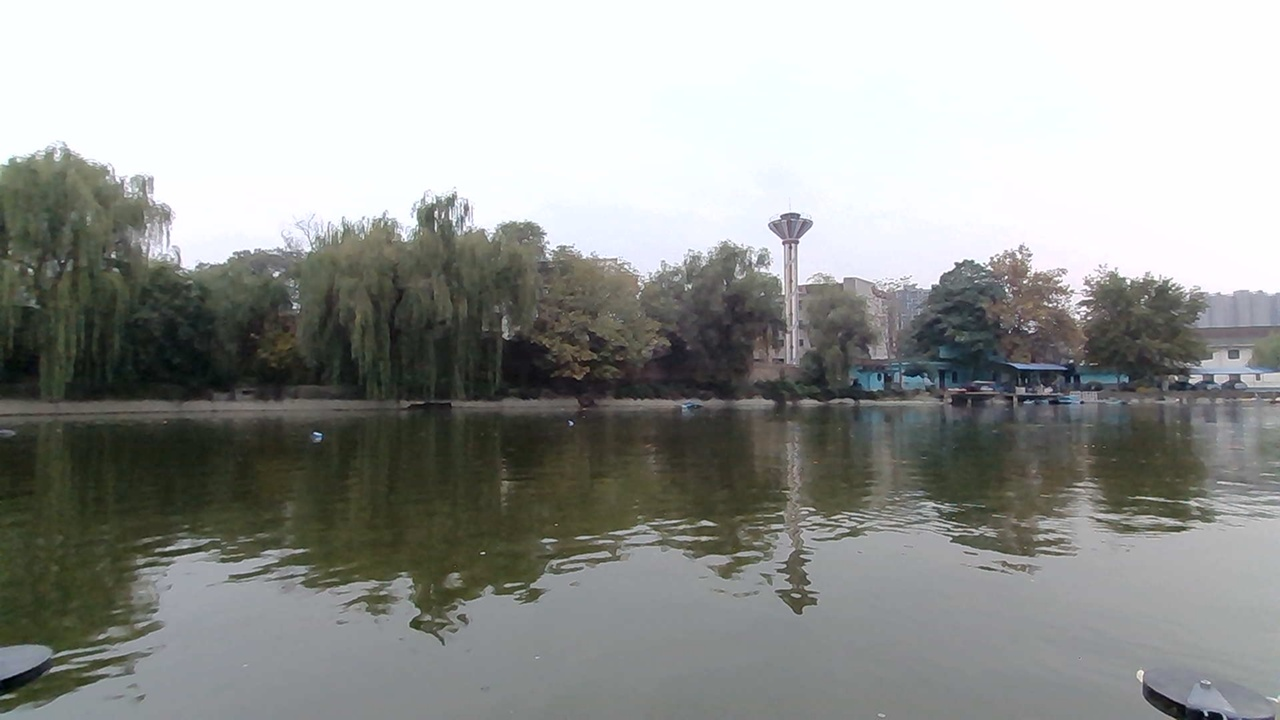bottle: (302, 427, 333, 445)
